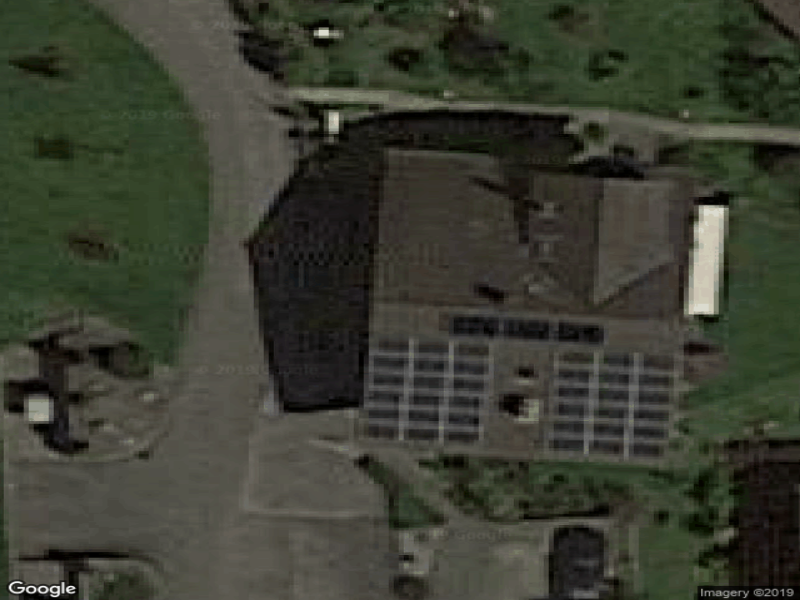pv: (547, 342, 673, 461), (364, 340, 490, 448)
